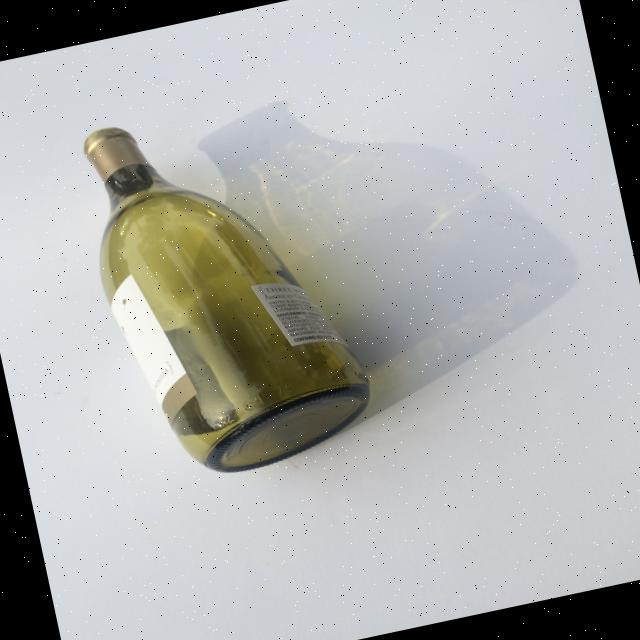glass: (69, 84, 382, 492)
